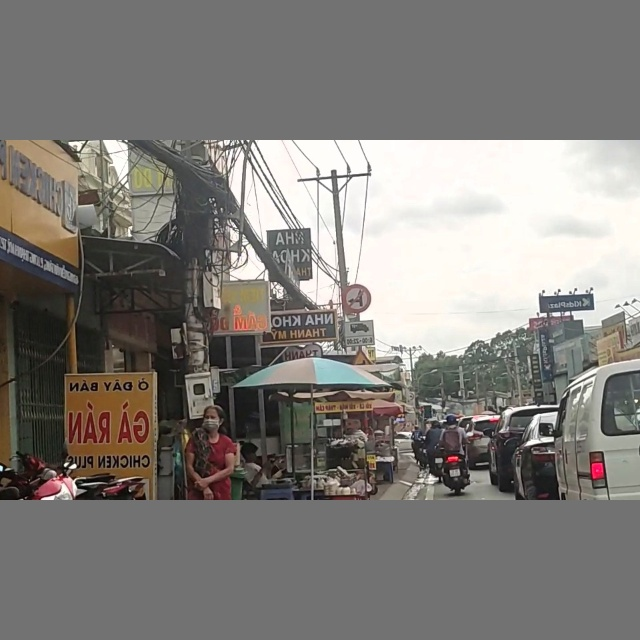P.139: (343, 283, 371, 312)
S.505a*Xe tai: (343, 321, 375, 344)
W.205b: (345, 353, 377, 368)
